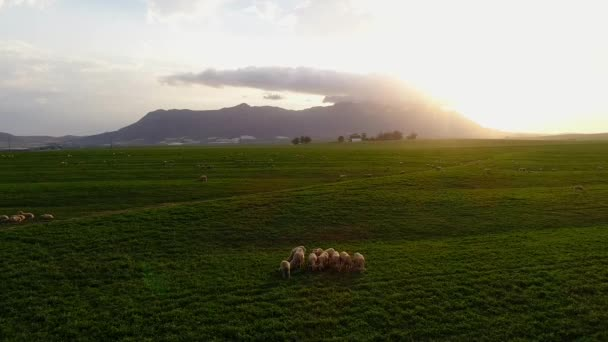sheep: (292, 247, 305, 271), (353, 251, 367, 273), (340, 250, 353, 273), (318, 251, 329, 273), (279, 260, 291, 280), (307, 252, 318, 273), (322, 248, 335, 264), (332, 250, 341, 272), (37, 213, 54, 221), (20, 210, 34, 219)
